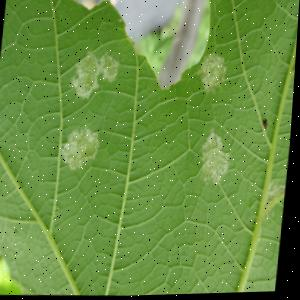Folha: (0, 0, 300, 300)
Fungo: (69, 49, 121, 102), (199, 127, 235, 187), (60, 124, 103, 172), (197, 52, 228, 96), (263, 120, 269, 132)
